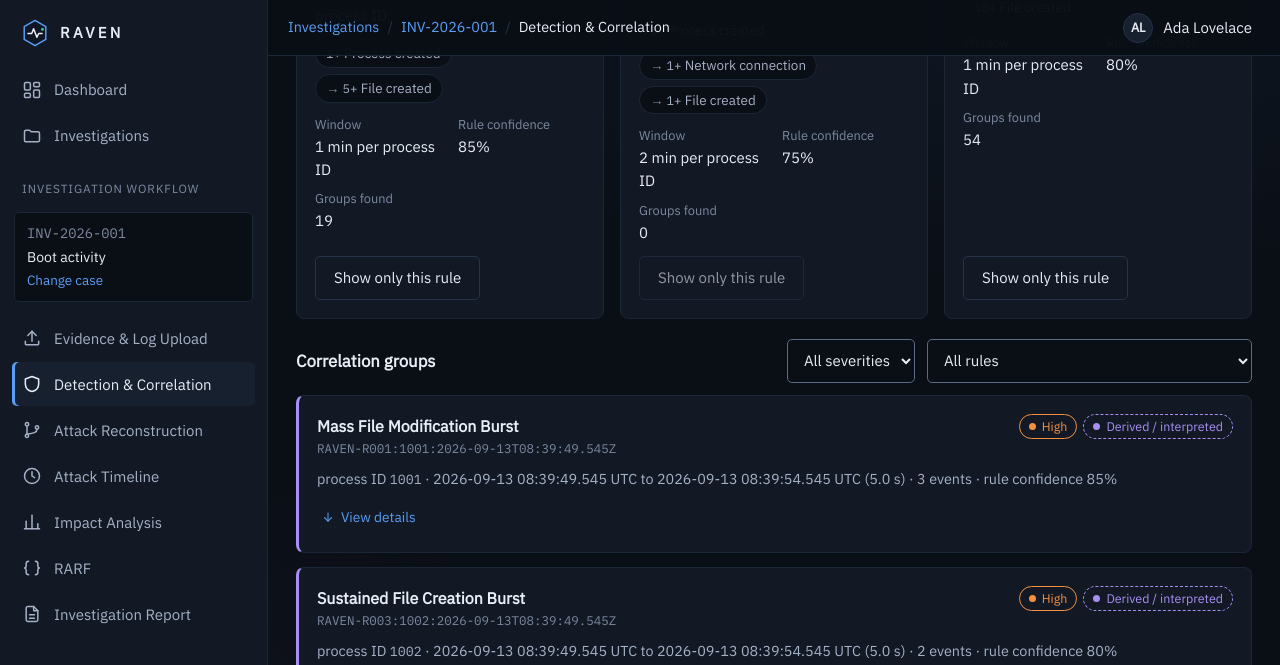
Test case: Detection: groups › filters by severity and clears the filters
(page scrolled)
Select "Medium" in the dropdown named "Filter by severity". click: coordinates (851, 361)
box: [787,339,915,383]
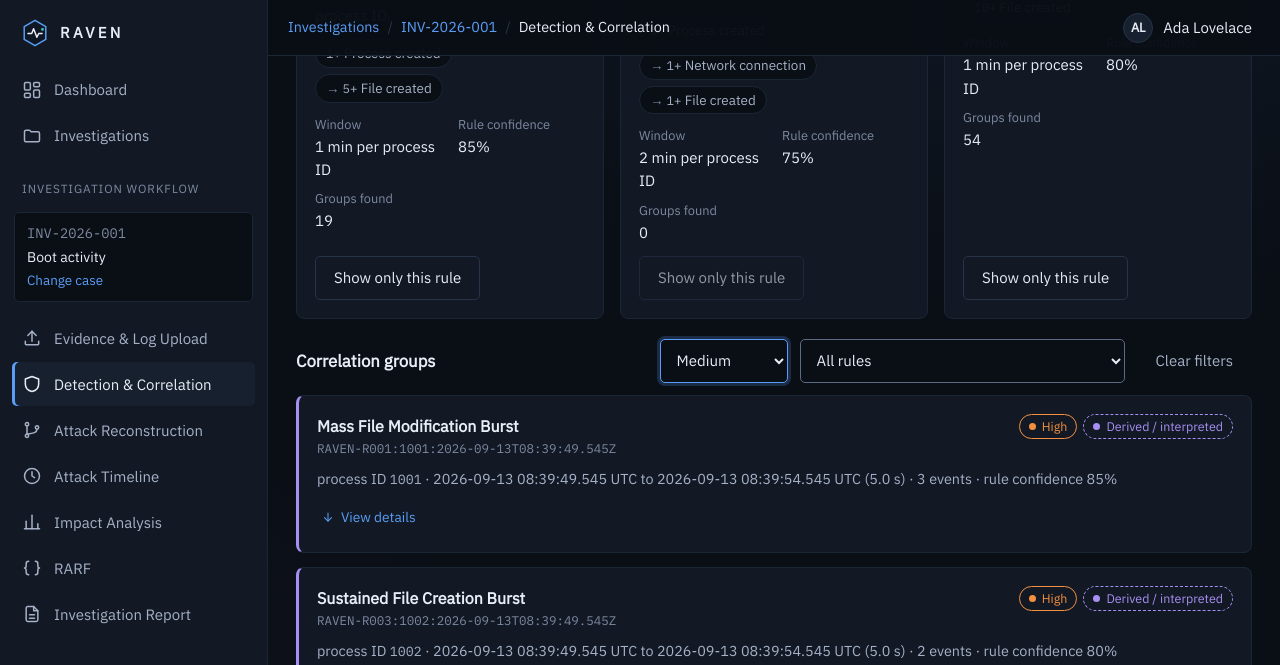
Click the button "Clear filters". click: coordinates (1194, 361)
box: [1136,339,1252,383]
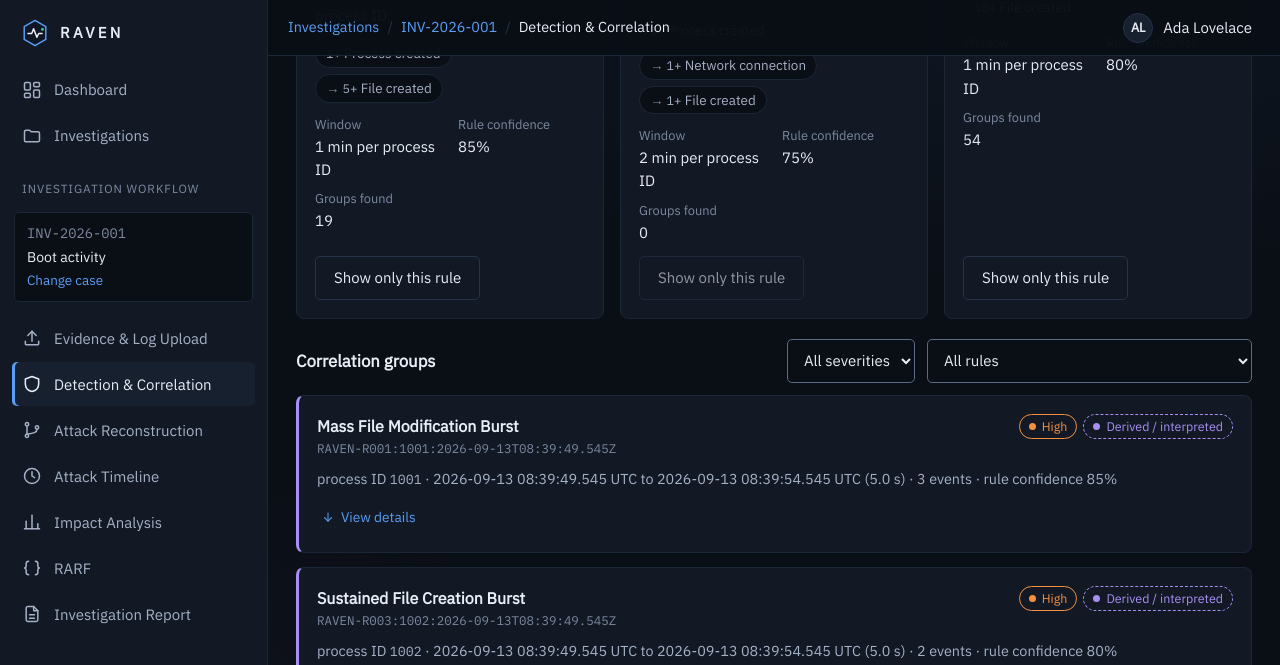
Expected: the button "Clear filters" is gone
